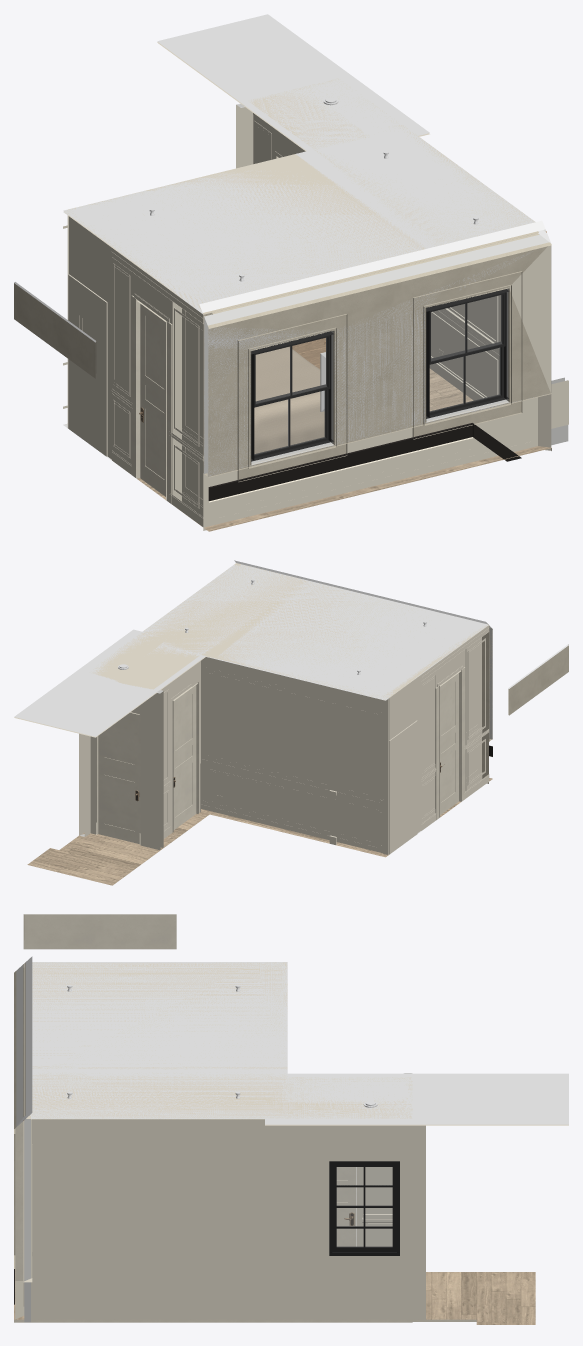
The model's file is blue-bedroom-4990b1ff3b3c.glb.
The picture shows the model from 3 angles, top to bottom: view 1: azimuth 30°, elevation 25°; view 2: azimuth 150°, elevation 25°; view 3: azimuth 270°, elevation 25°; orthographic projection. The views are drawn at different scales.
Visible parts, largest first — view 1: blue-bedroom-9d91b47435c6fb33, blue-bedroom-bddaf205afbd60c0, blue-bedroom-e8793759323e04f0, blue-bedroom-df3e1f21720b0c39, blue-bedroom-look-9d91b47435c6fb33, blue-bedroom-ed5fdcd3ee9c0dd5, blue-bedroom-3c3de67e8dd93323, blue-bedroom-649b3532e9781727, blue-bedroom-2f7d8eff34a2c180, blue-bedroom-e786e1fd679c6cac, blue-bedroom-64753ebcb3824a84, blue-bedroom-ead09a0b3f9e3bd9 (+17 smaller); view 2: blue-bedroom-6e269356ae8bfd70, blue-bedroom-9d91b47435c6fb33, blue-bedroom-e8793759323e04f0, blue-bedroom-look-9d91b47435c6fb33, blue-bedroom-ed5fdcd3ee9c0dd5, blue-bedroom-dcc0092055abeaa8, blue-bedroom-look-eb02897c2e79e2b1, blue-bedroom-look-2575515a05775d9e, blue-bedroom-ead09a0b3f9e3bd9, blue-bedroom-c33a54857fb1d4db, blue-bedroom-3e649b0d114ae387, blue-bedroom-bf159a19de53e60e (+17 smaller); view 3: blue-bedroom-746250f96522f643, blue-bedroom-9d91b47435c6fb33, blue-bedroom-e8793759323e04f0, blue-bedroom-look-9d91b47435c6fb33, blue-bedroom-5035c6783c6505b3, blue-bedroom-look-2575515a05775d9e, blue-bedroom-look-3a4d9d62ecd7be1c, blue-bedroom-look-746250f96522f643, blue-bedroom-95684fa6df9df9bf, blue-bedroom-2575515a05775d9e, blue-bedroom-c33a54857fb1d4db, blue-bedroom-0a6e1f8a567f4490 (+2 smaller).
Boxes of the visible parts, box(x1,y1,x2,y2) form: blue-bedroom-9d91b47435c6fb33: box(63, 78, 538, 314); blue-bedroom-bddaf205afbd60c0: box(207, 242, 550, 476); blue-bedroom-e8793759323e04f0: box(64, 78, 545, 312); blue-bedroom-df3e1f21720b0c39: box(208, 243, 551, 476); blue-bedroom-look-9d91b47435c6fb33: box(157, 14, 429, 151); blue-bedroom-ed5fdcd3ee9c0dd5: box(67, 215, 181, 500); blue-bedroom-3c3de67e8dd93323: box(251, 330, 333, 461); blue-bedroom-649b3532e9781727: box(426, 289, 509, 418); blue-bedroom-2f7d8eff34a2c180: box(203, 393, 551, 530); blue-bedroom-e786e1fd679c6cac: box(254, 347, 324, 453); blue-bedroom-64753ebcb3824a84: box(204, 234, 548, 476); blue-bedroom-ead09a0b3f9e3bd9: box(68, 274, 107, 456); blue-bedroom-6e269356ae8bfd70: box(201, 656, 389, 854); blue-bedroom-9d91b47435c6fb33: box(84, 564, 488, 700); blue-bedroom-e8793759323e04f0: box(92, 560, 488, 699); blue-bedroom-look-9d91b47435c6fb33: box(14, 629, 205, 737); blue-bedroom-ed5fdcd3ee9c0dd5: box(382, 641, 465, 854); blue-bedroom-dcc0092055abeaa8: box(98, 712, 139, 843); blue-bedroom-look-eb02897c2e79e2b1: box(90, 690, 163, 850); blue-bedroom-look-2575515a05775d9e: box(27, 812, 209, 885); blue-bedroom-ead09a0b3f9e3bd9: box(389, 720, 417, 854); blue-bedroom-c33a54857fb1d4db: box(173, 685, 196, 829); blue-bedroom-3e649b0d114ae387: box(465, 625, 488, 790); blue-bedroom-bf159a19de53e60e: box(440, 673, 458, 814); blue-bedroom-746250f96522f643: box(32, 1119, 412, 1319); blue-bedroom-9d91b47435c6fb33: box(24, 962, 412, 1119); blue-bedroom-e8793759323e04f0: box(25, 956, 412, 1118); blue-bedroom-look-9d91b47435c6fb33: box(265, 1073, 568, 1125); blue-bedroom-5035c6783c6505b3: box(329, 1161, 399, 1255); blue-bedroom-look-2575515a05775d9e: box(412, 1272, 535, 1324); blue-bedroom-look-3a4d9d62ecd7be1c: box(23, 914, 176, 949); blue-bedroom-look-746250f96522f643: box(412, 1125, 425, 1319); blue-bedroom-95684fa6df9df9bf: box(362, 1167, 392, 1246); blue-bedroom-2575515a05775d9e: box(14, 1269, 412, 1322); blue-bedroom-c33a54857fb1d4db: box(336, 1167, 356, 1246); blue-bedroom-0a6e1f8a567f4490: box(15, 1121, 22, 1281).
Bounding box in the file's own units: 6.73 × 3.04 × 7.3.
37 materials, 9 textured.
